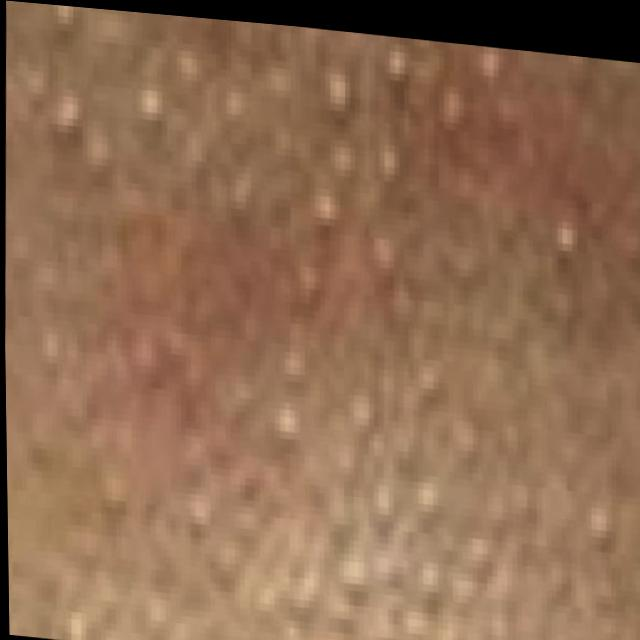whitehead: (18, 1, 640, 633)
